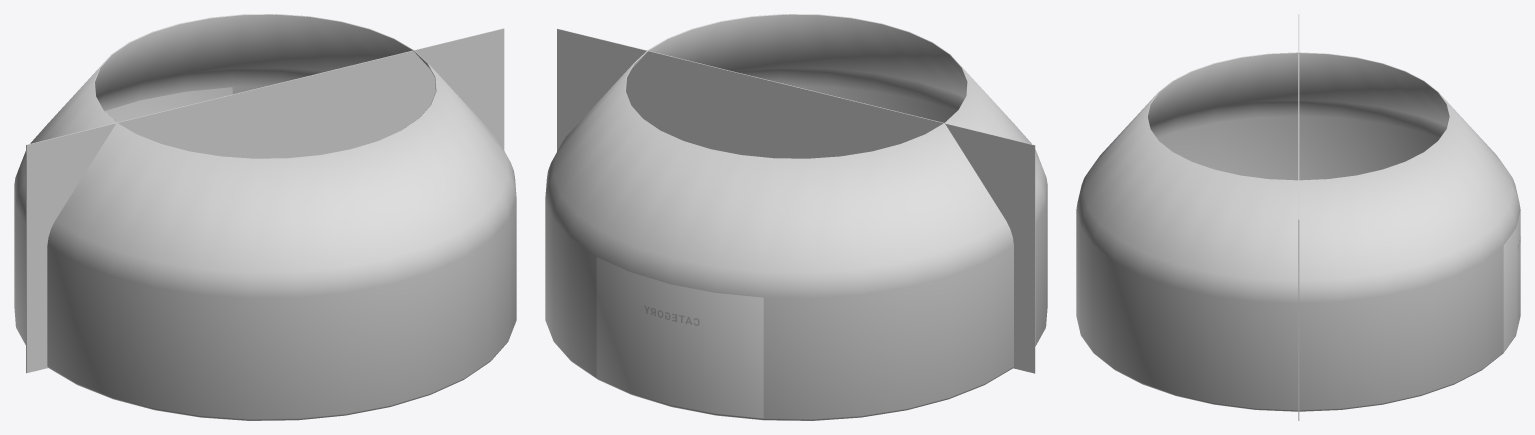
File: main.glb
3 views of the same model, side by side, from view 1: azimuth 30°, elevation 25°; view 2: azimuth 150°, elevation 25°; view 3: azimuth 270°, elevation 25° (orthographic). The views are drawn at different scales.
Visible parts, largest first — view 1: Circle.002, Plane; view 2: Circle.002, Plane; view 3: Circle.002, Plane.
Part boxes in pixels (left/top/right/bottom): Circle.002: left=14, top=14, right=516, bottom=420; Plane: left=26, top=28, right=504, bottom=373; Circle.002: left=545, top=14, right=1047, bottom=420; Plane: left=557, top=28, right=1035, bottom=373; Circle.002: left=1076, top=52, right=1520, bottom=411; Plane: left=1298, top=14, right=1299, bottom=420.
Bounding box in the file's own units: 63.02 × 28.93 × 57.51.
4 materials, 2 textured.
